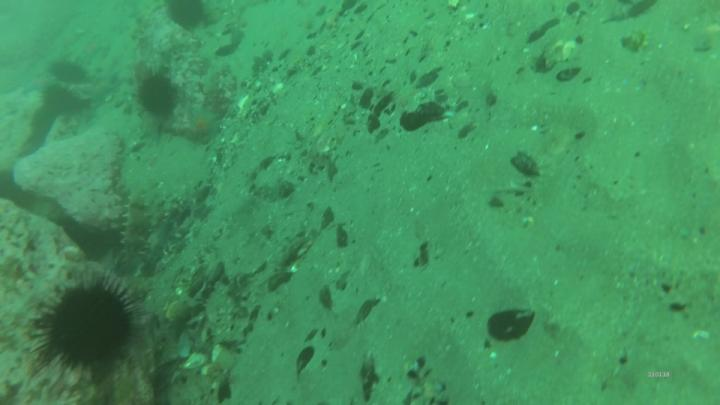echinus: (50, 286, 132, 368), (139, 77, 176, 114), (169, 2, 206, 29), (42, 89, 80, 115), (52, 63, 89, 85)
holothurian: (123, 196, 151, 276)
starfish: (189, 110, 219, 147)
